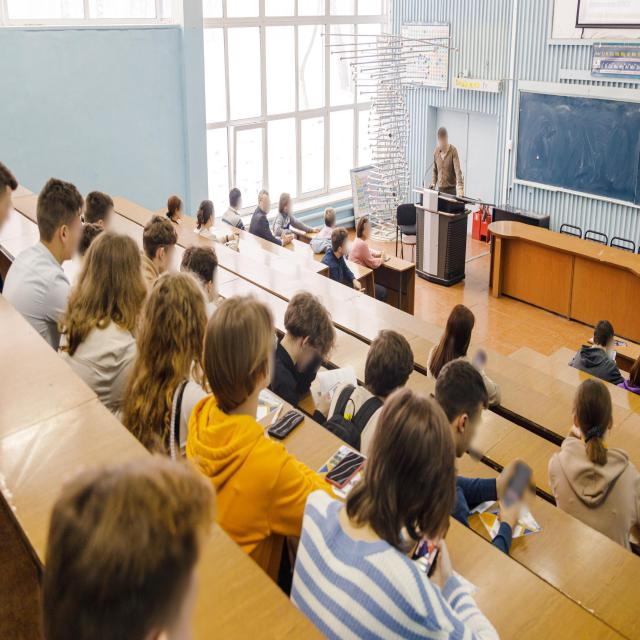Person: (281, 391, 504, 639), (194, 285, 336, 549), (34, 448, 208, 640), (545, 374, 640, 570), (8, 174, 91, 356), (68, 217, 145, 413), (135, 270, 210, 458), (318, 327, 426, 448), (440, 368, 516, 536), (276, 290, 338, 402), (433, 291, 495, 386), (568, 311, 623, 390), (427, 123, 473, 215), (0, 143, 20, 316), (324, 223, 362, 314), (190, 195, 238, 261), (181, 239, 222, 308), (352, 214, 385, 288), (82, 179, 121, 240), (142, 214, 174, 283), (251, 189, 279, 257), (278, 190, 312, 244), (312, 206, 340, 257), (222, 182, 246, 232), (163, 191, 189, 228)
